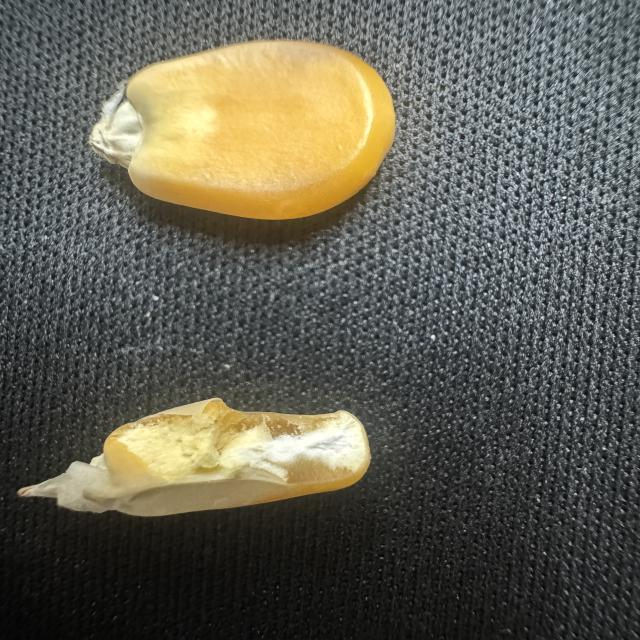Bad-Seed: (9, 389, 380, 530)
Good-Seed: (84, 26, 404, 220)
